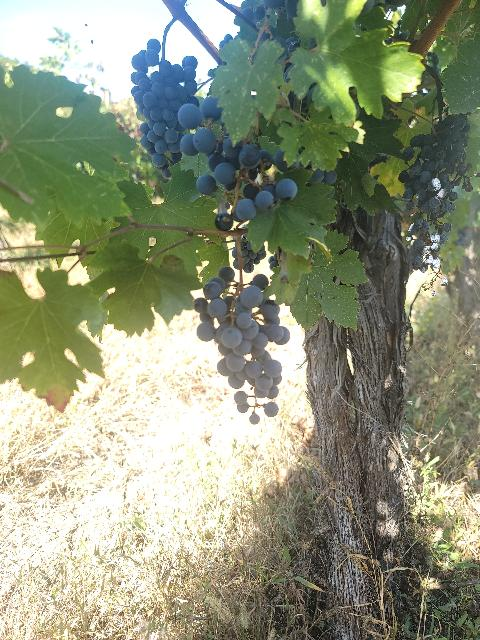grapes: (194, 265, 290, 424), (131, 39, 200, 178)
